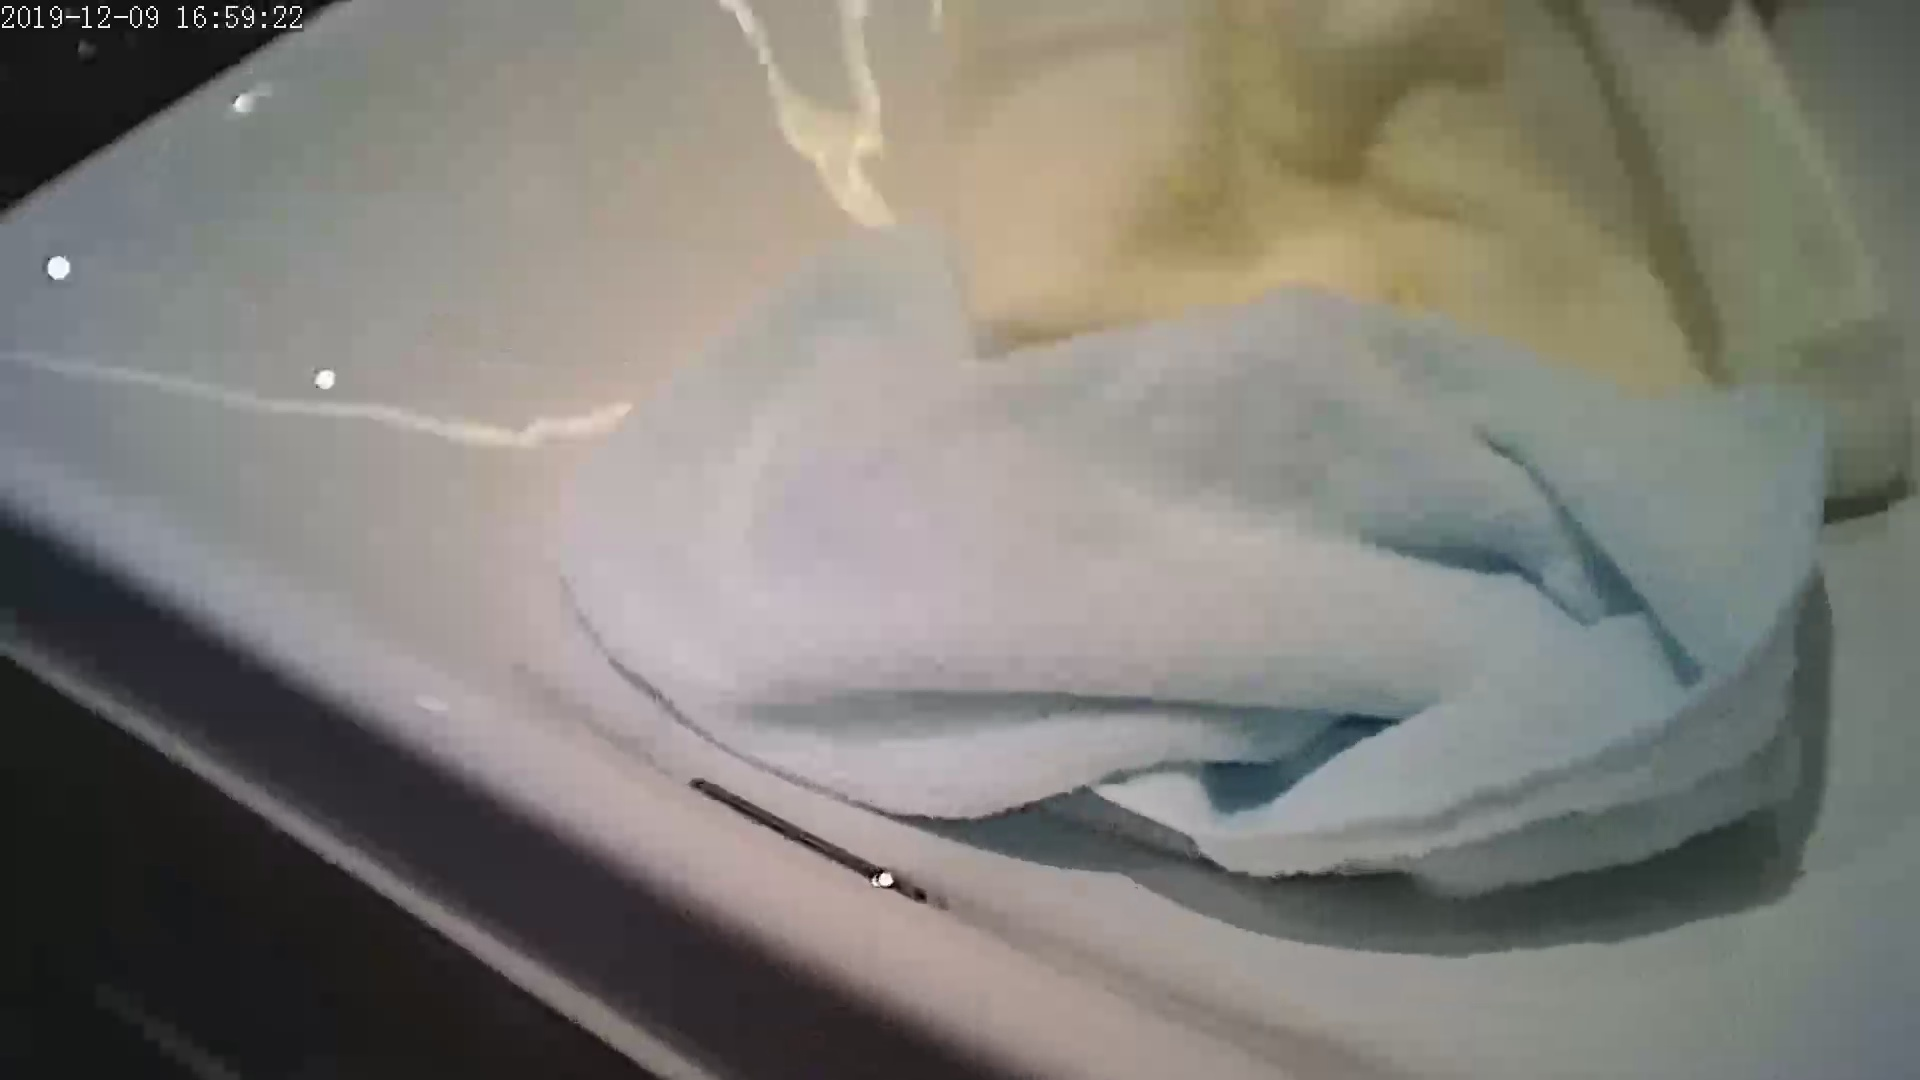bluecloth: (675, 328, 1811, 872)
sink: (25, 54, 1913, 1055)
yellowcloth: (953, 20, 1833, 386)
